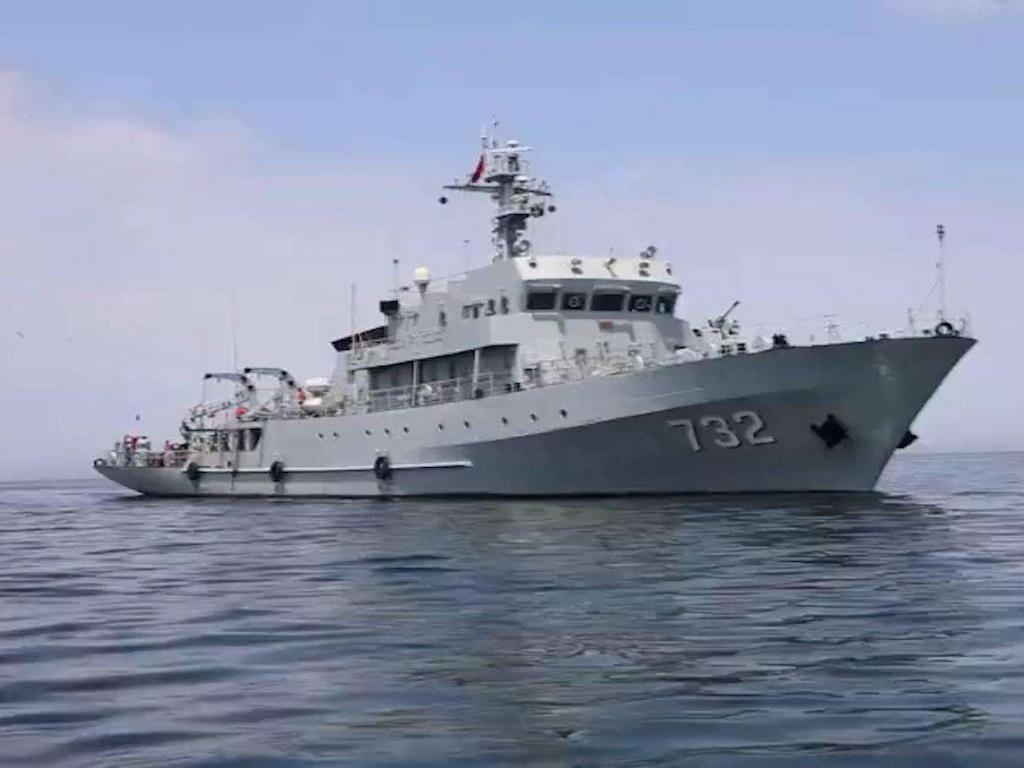Warship: (82, 106, 982, 506)
